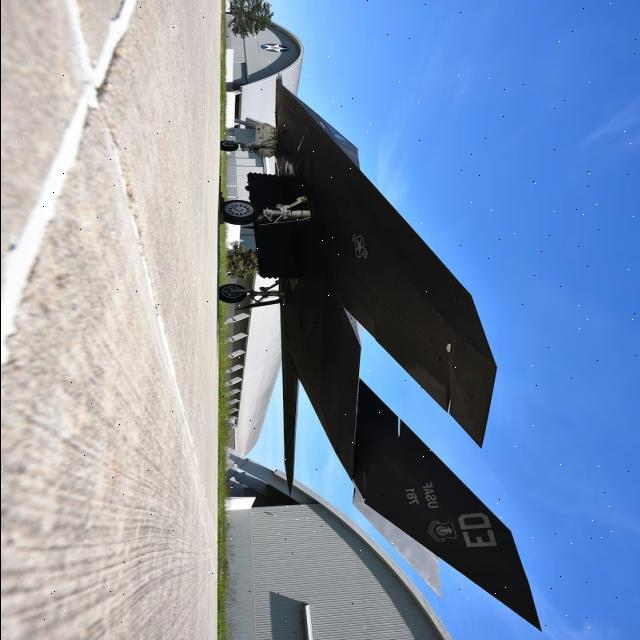F117: (200, 70, 576, 640)
